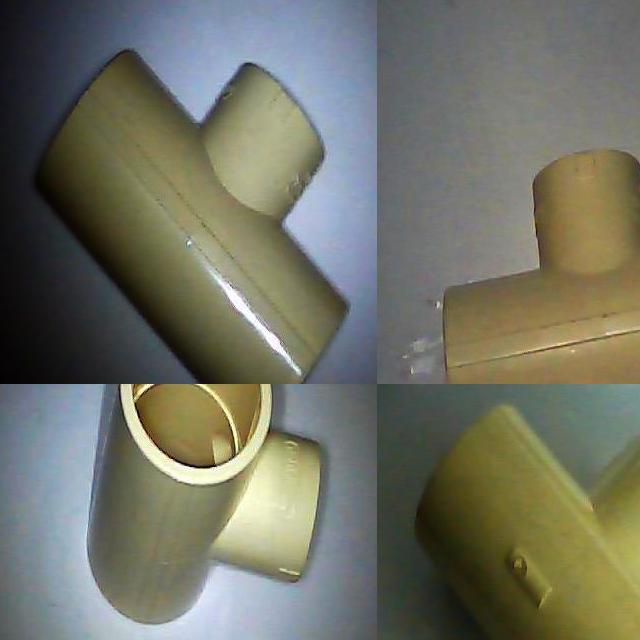T Joint: (35, 50, 351, 384), (85, 384, 319, 629), (413, 403, 640, 640), (445, 149, 640, 384)
